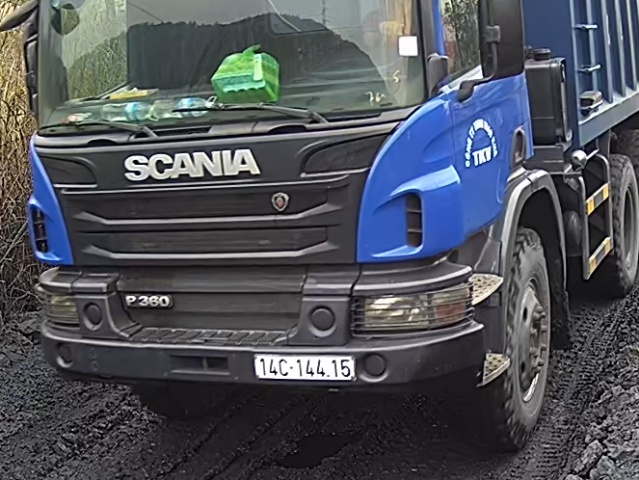vehicle plate: (249, 352, 359, 383)
